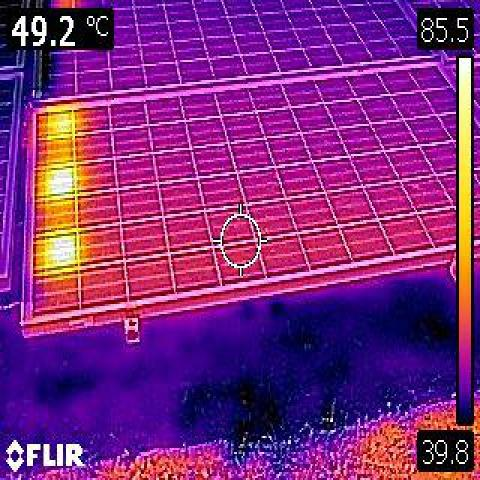fault: (38, 237, 76, 261), (36, 170, 72, 192), (49, 112, 73, 137)
